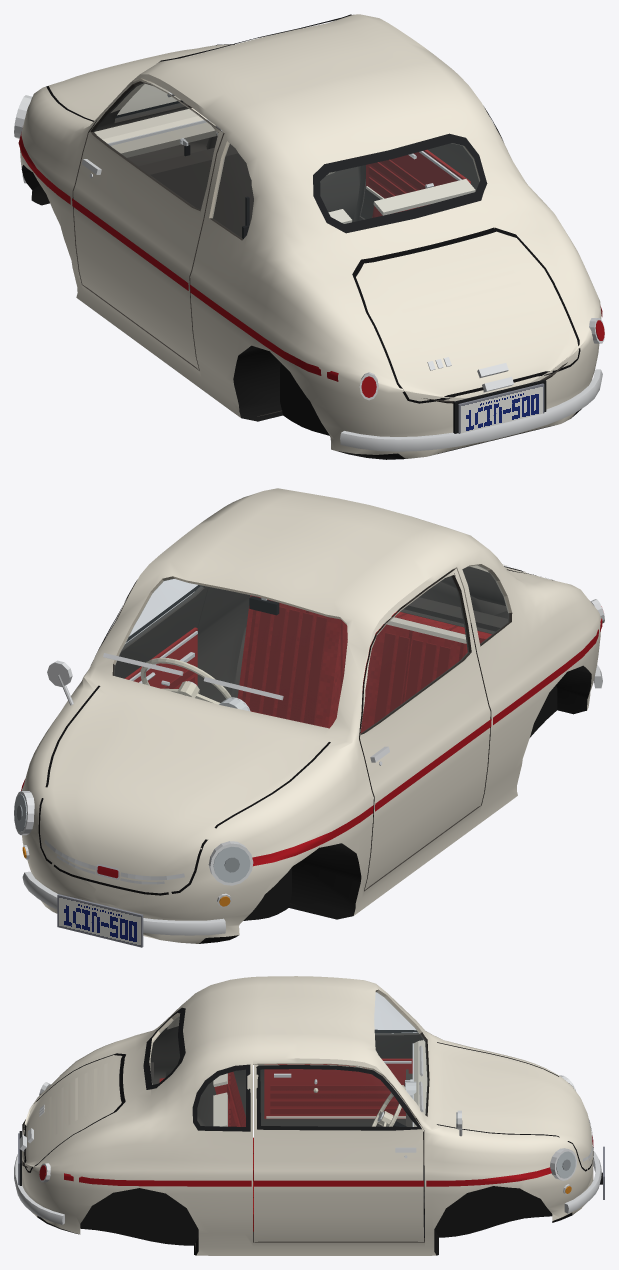
File: classic_sport.glb
3 views of the same model, one above another, from view 1: azimuth 30°, elevation 25°; view 2: azimuth 150°, elevation 25°; view 3: azimuth 270°, elevation 25° (orthographic). The views are drawn at different scales.
Visible parts, largest first — view 1: Body, Door_L, Glass, Interior, Door_L_Glass, Door_R; view 2: Body, Glass, Interior, Door_L, Door_L_Glass, Door_R, Lights_Head, SteeringWheel; view 3: Body, Door_R, Door_L, Door_R_Glass, Glass, Interior, SteeringWheel.
Boxes of the visible parts, bbox=[...] form: Body: bbox=[14, 14, 604, 459]; Door_L: bbox=[72, 79, 224, 369]; Glass: bbox=[154, 84, 479, 238]; Interior: bbox=[94, 108, 475, 238]; Door_L_Glass: bbox=[94, 83, 216, 209]; Door_R: bbox=[360, 143, 479, 219]; Body: bbox=[14, 488, 604, 947]; Glass: bbox=[114, 565, 508, 727]; Interior: bbox=[185, 595, 507, 733]; Door_L: bbox=[359, 568, 491, 890]; Door_L_Glass: bbox=[361, 576, 468, 732]; Door_R: bbox=[91, 579, 207, 688]; Lights_Head: bbox=[14, 794, 250, 882]; SteeringWheel: bbox=[140, 657, 231, 704]; Body: bbox=[14, 976, 604, 1255]; Door_R: bbox=[254, 1064, 424, 1242]; Door_L: bbox=[258, 1029, 422, 1126]; Door_R_Glass: bbox=[261, 1069, 416, 1126]; Glass: bbox=[150, 992, 427, 1126]; Interior: bbox=[150, 1040, 427, 1240]; SteeringWheel: bbox=[371, 1085, 405, 1126].
Size of the model in its own units: 1.33 by 1.17 by 3.07.
26 materials, 5 textured.
